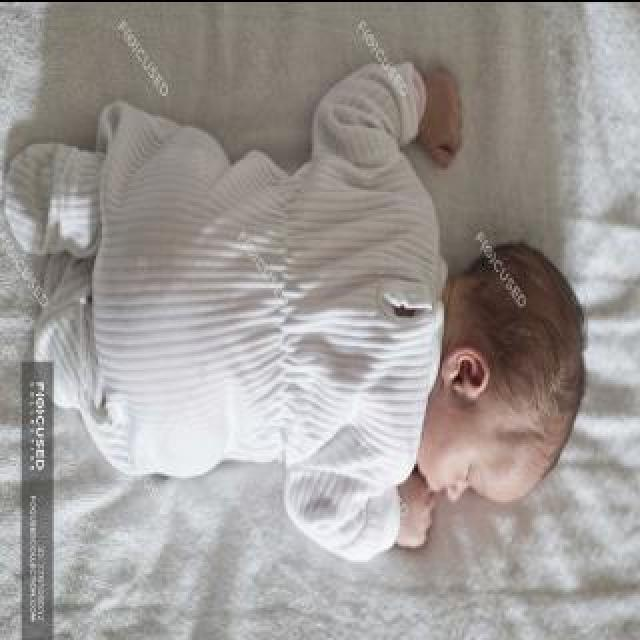baby: (0, 54, 578, 558)
